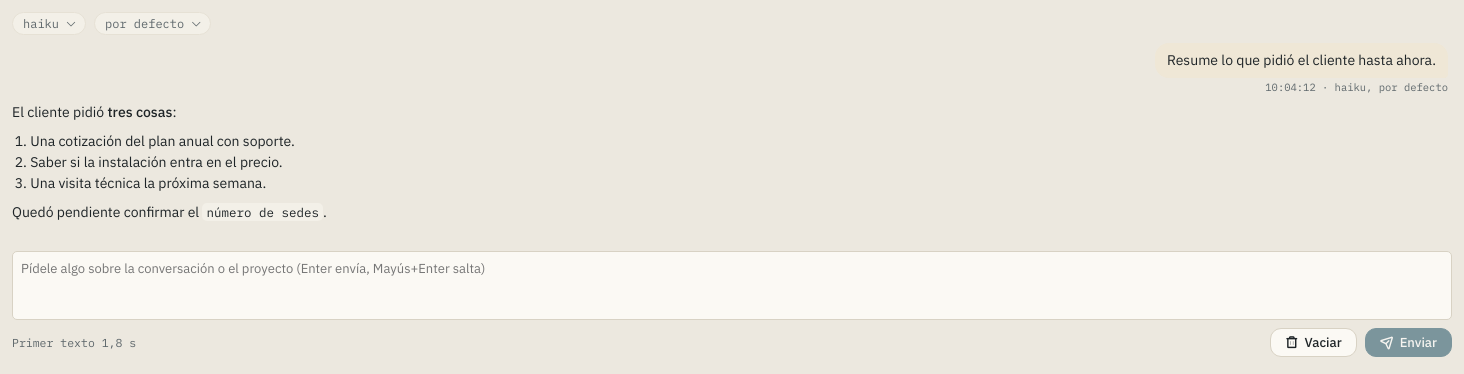
Scenario: ChatPanel › Enter envia y vacia el cuadro; Mayus+Enter no envia
Replace the text in the text box named "Petición para el chat" with "¿Y el precio?": [732, 286] box [12,251,1452,320]
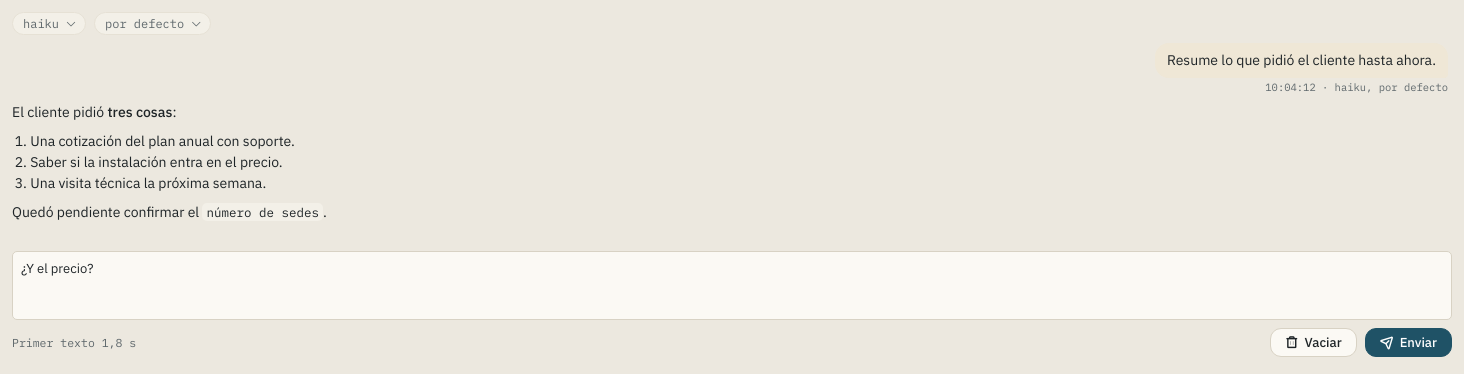
Press Enter in the text box named "Petición para el chat", box [12,251,1452,320]
Press Enter in the text box named "Petición para el chat", box [12,251,1452,320]
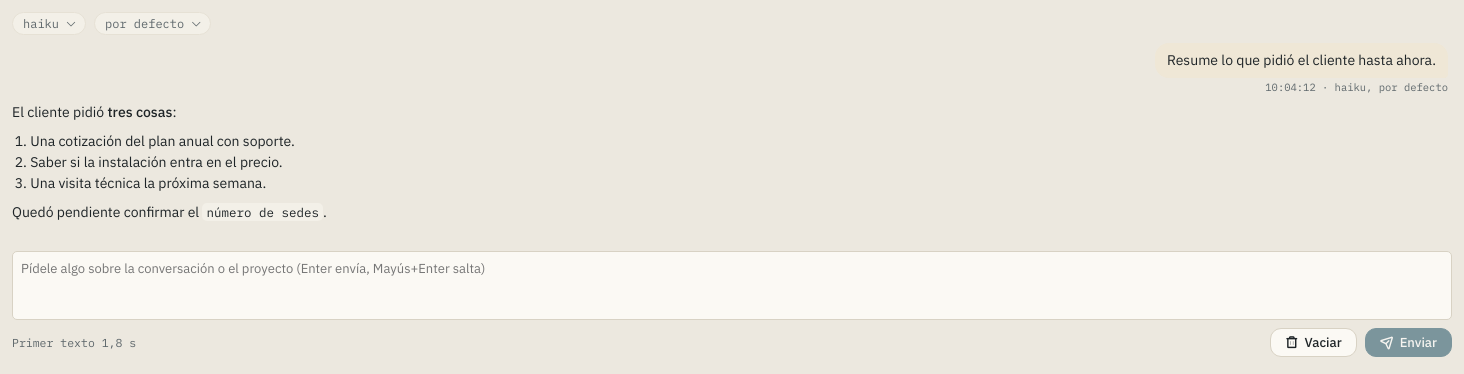
Expected: the text box named "Petición para el chat" is empty, [12,251,1452,320]
